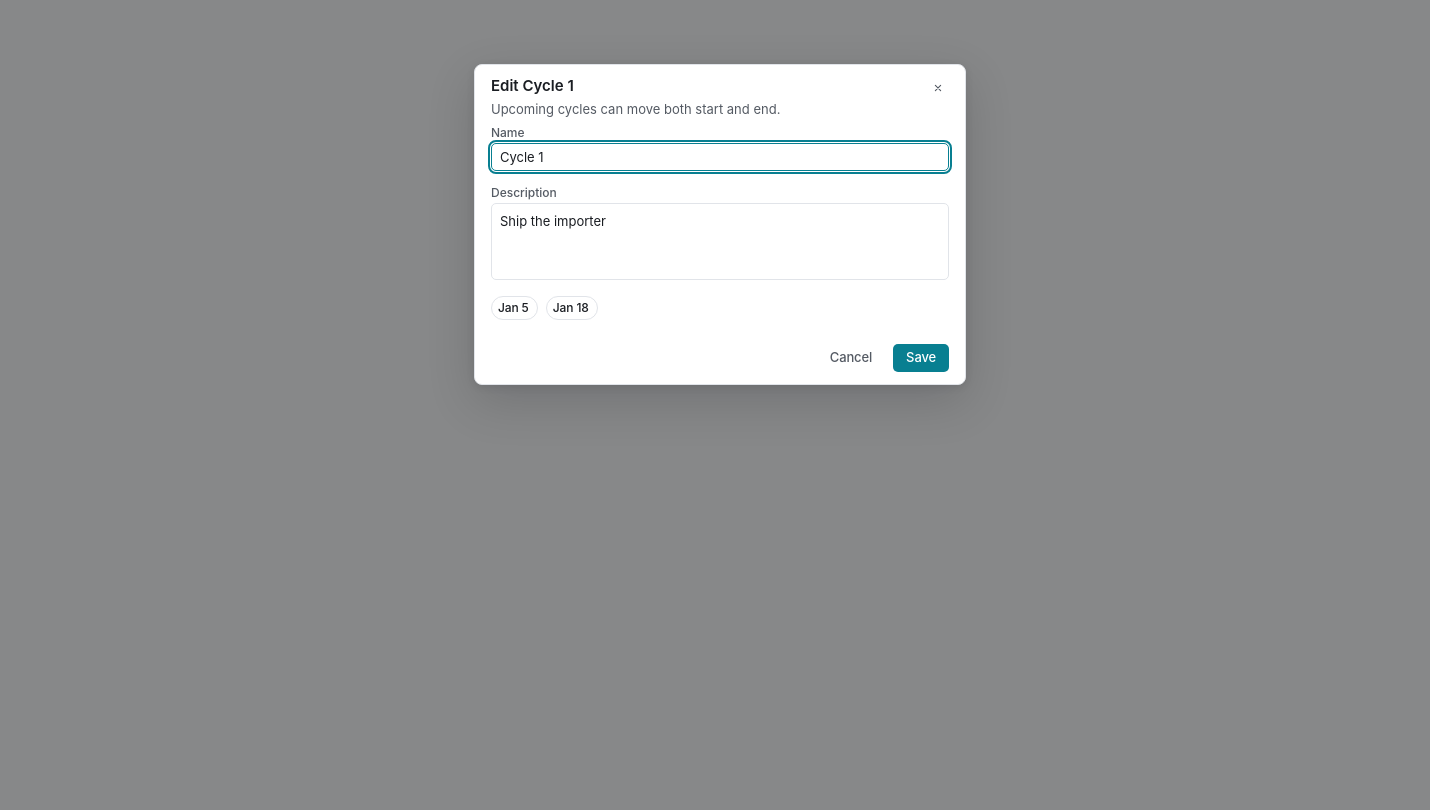
Test: CycleEditModal discard guard › keeps the dialog, and the edit in it, on keep editing
Replace the text in the field labelled "Name" with "Importer sprint" at (720, 157), box [500, 144, 940, 170]
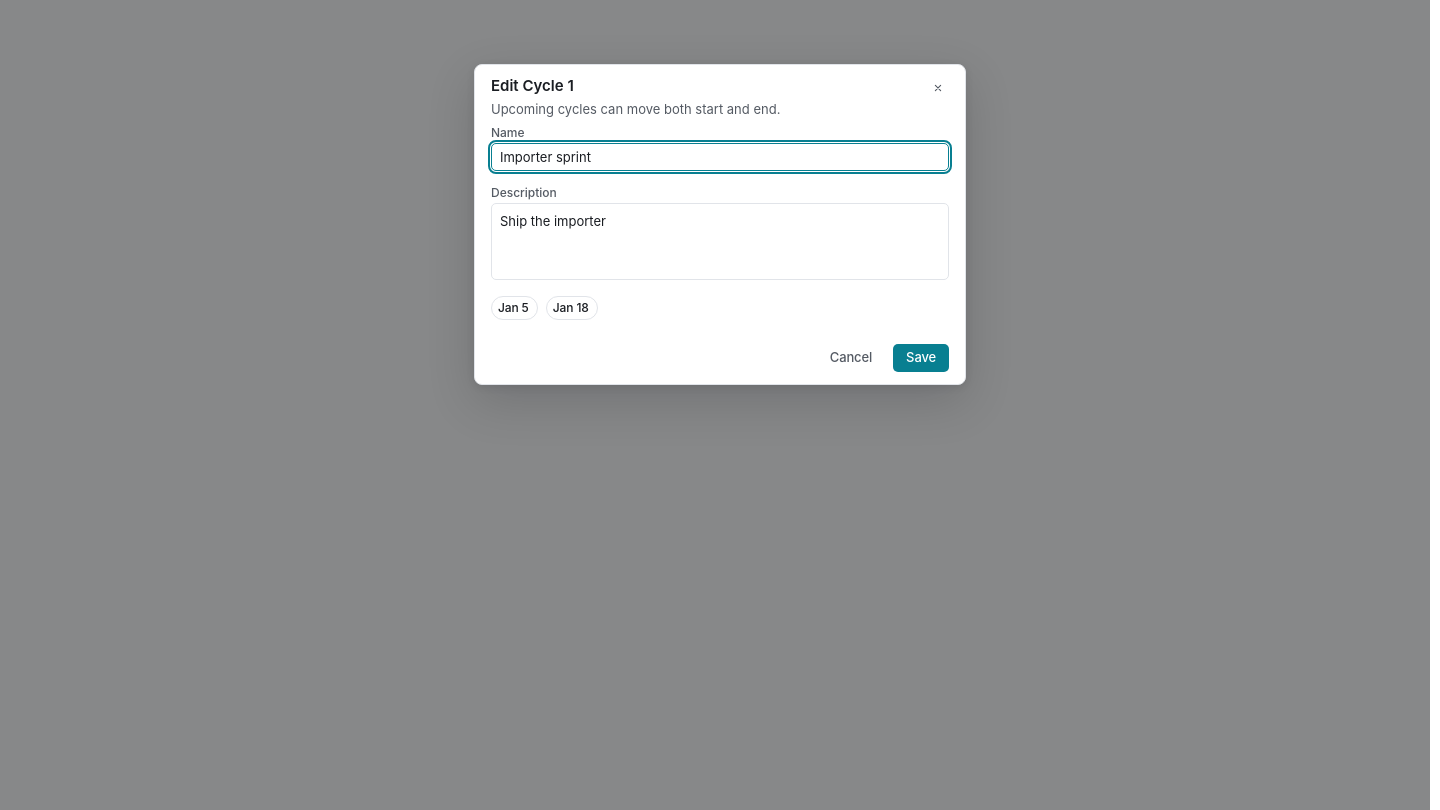
Press Escape
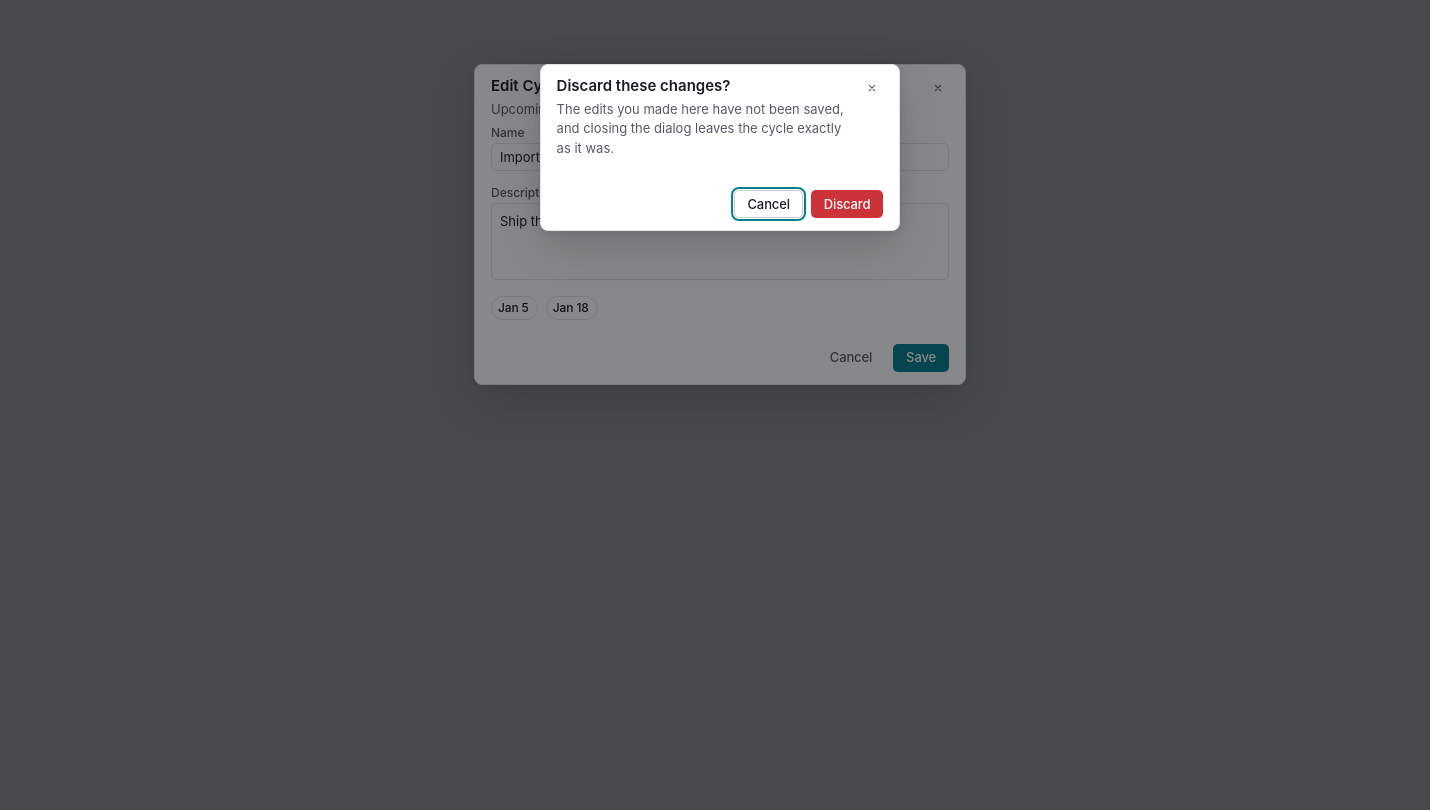
Click the button "Cancel".
click(769, 204)  # box [734, 190, 803, 218]
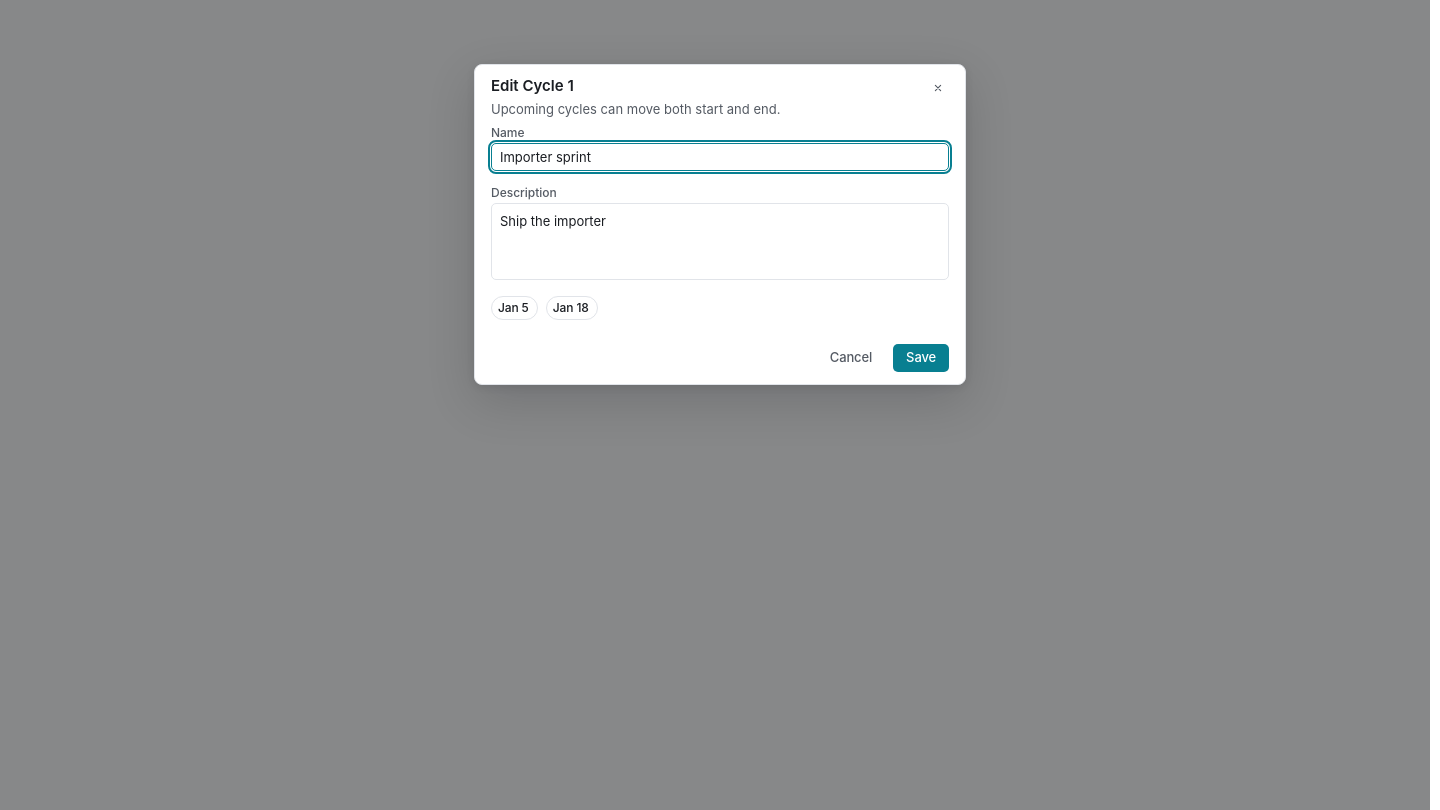
Expected: the heading "Discard these changes?" is gone
